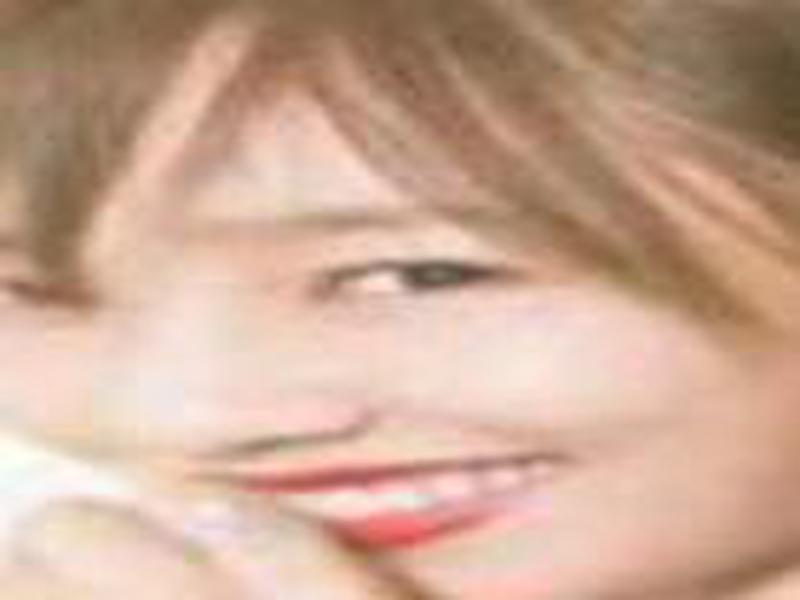without_mask: (3, 100, 789, 597)
